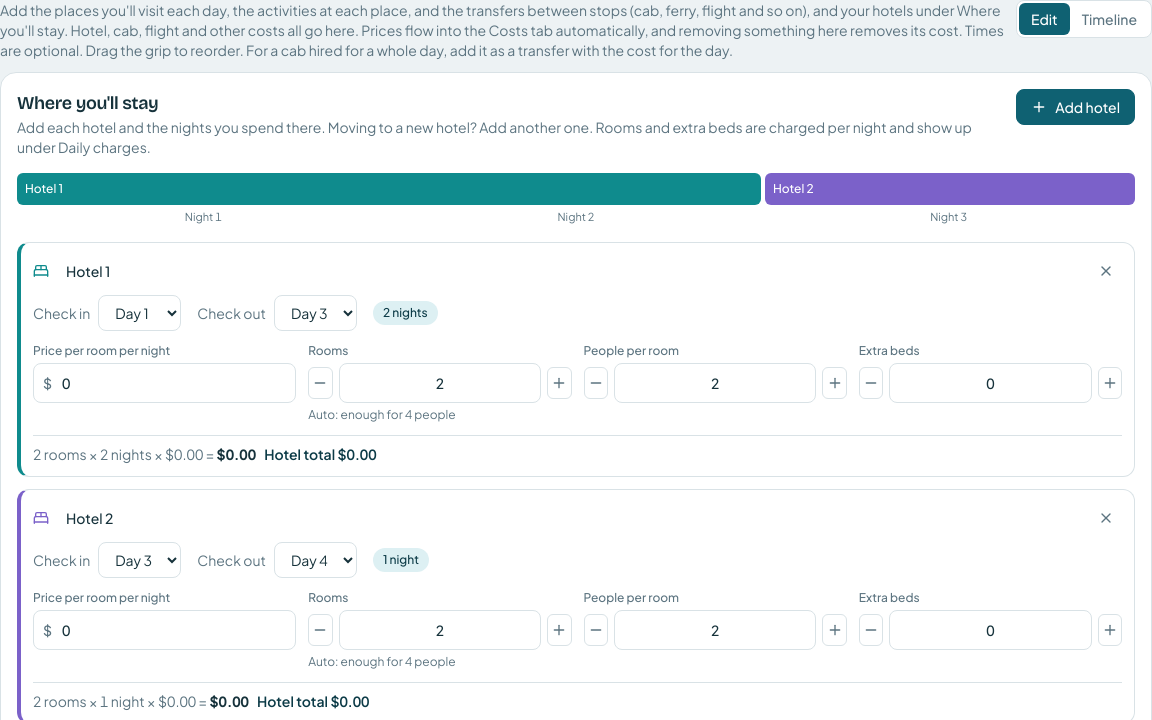
Test: Hotels in the itinerary days and timeline › shows hotels on the timeline
The image size is (1152, 720).
Click the button "timeline": (1109, 19) [1070,3,1149,35]
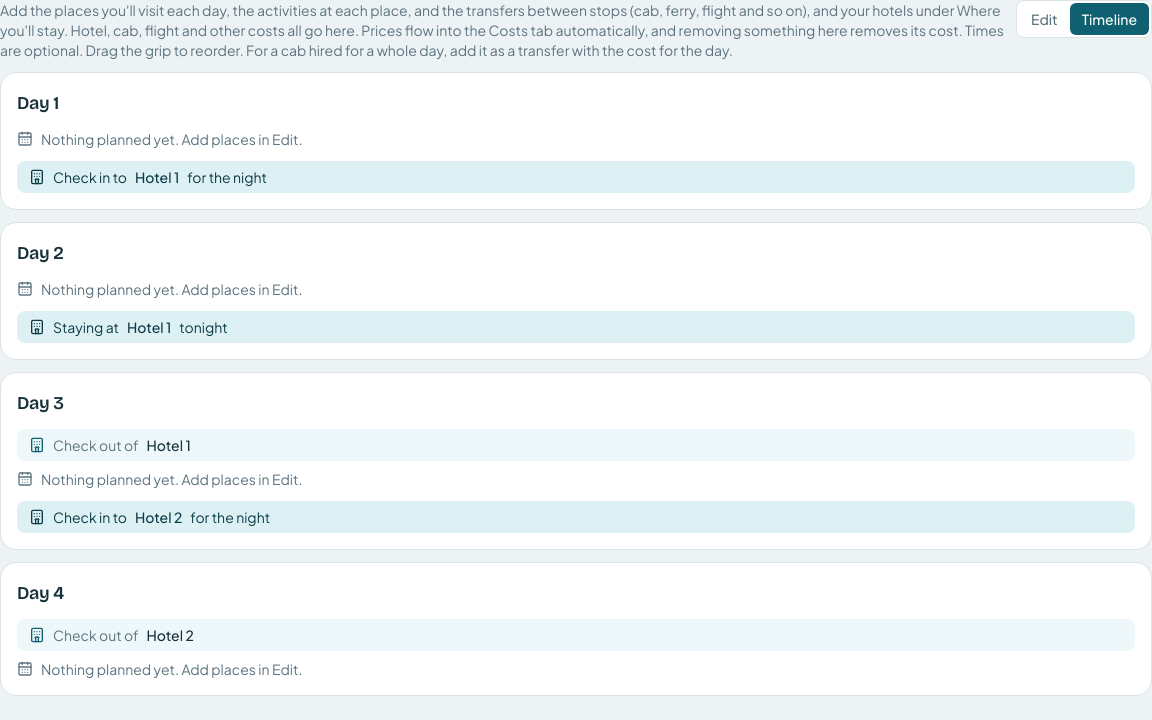
Now the element with test id "lodging-1" reads "Check in to Hotel 1 for the night", box [17,161,1135,193]
Now the element with test id "lodging-2" reads "Staying at Hotel 1 tonight", box [17,311,1135,343]
Now the element with test id "lodging-out-3" reads "Check out of Hotel 1", box [17,429,1135,461]
